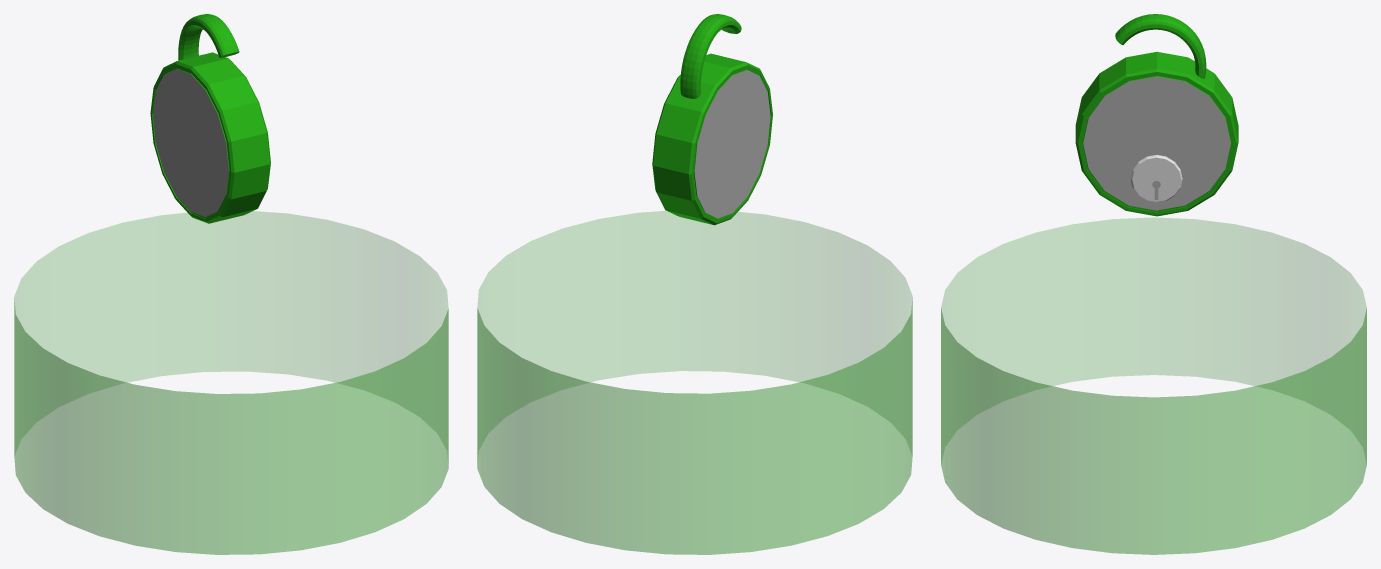
Rendered from unlock.glb.
The picture shows the model from 3 angles, left to right: view 1: azimuth 30°, elevation 25°; view 2: azimuth 150°, elevation 25°; view 3: azimuth 270°, elevation 25°; orthographic projection. The views are drawn at different scales.
Parts seen in each view (by area): view 1: 円柱, 円柱.001, lock; view 2: 円柱, 円柱.001, lock; view 3: 円柱, 円柱.001, lock.
Part boxes in pixels (x1,y1,x2,y2): 円柱: (14,211,448,554); 円柱.001: (15,312,448,554); lock: (150,14,270,223); 円柱: (477,211,912,554); 円柱.001: (478,311,911,554); lock: (652,14,772,225); 円柱: (941,217,1366,554); 円柱.001: (941,311,1366,554); lock: (1075,14,1238,216).
Bounding box in the file's own units: 2 × 2.28 × 2.
